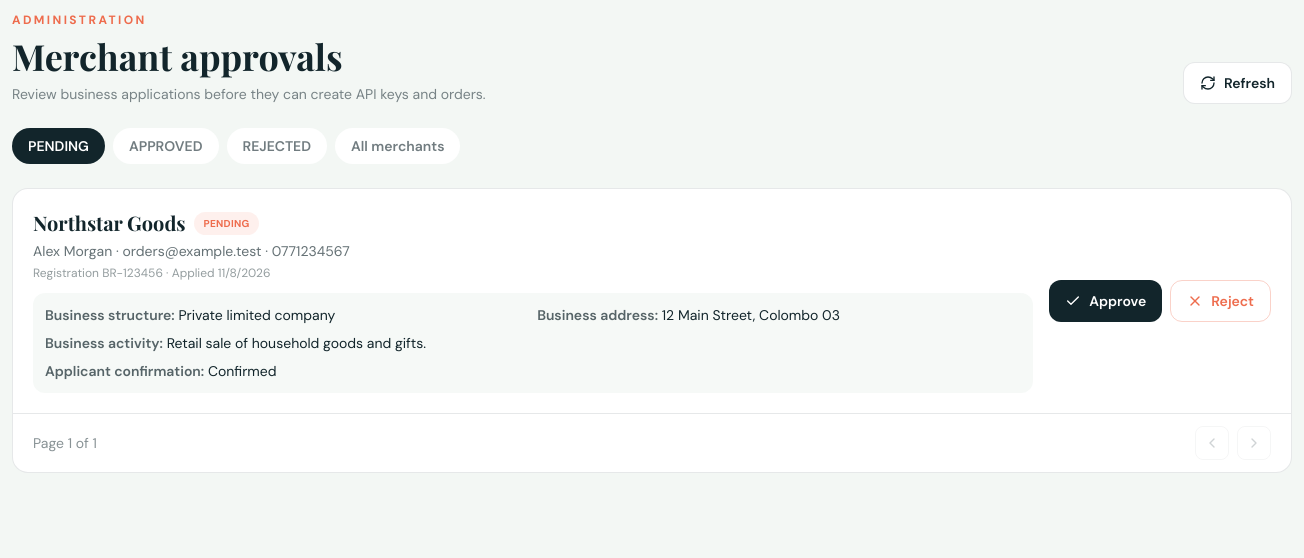
MerchantApprovalsPage › approves a merchant and displays the successful status notice
This screenshot has width=1304, height=558.
Expected: the heading "Northstar Goods" is shown, x1=33 y1=209 x2=186 y2=237
Click the button "All merchants".
click(398, 146)  # box x1=335 y1=128 x2=460 y2=164
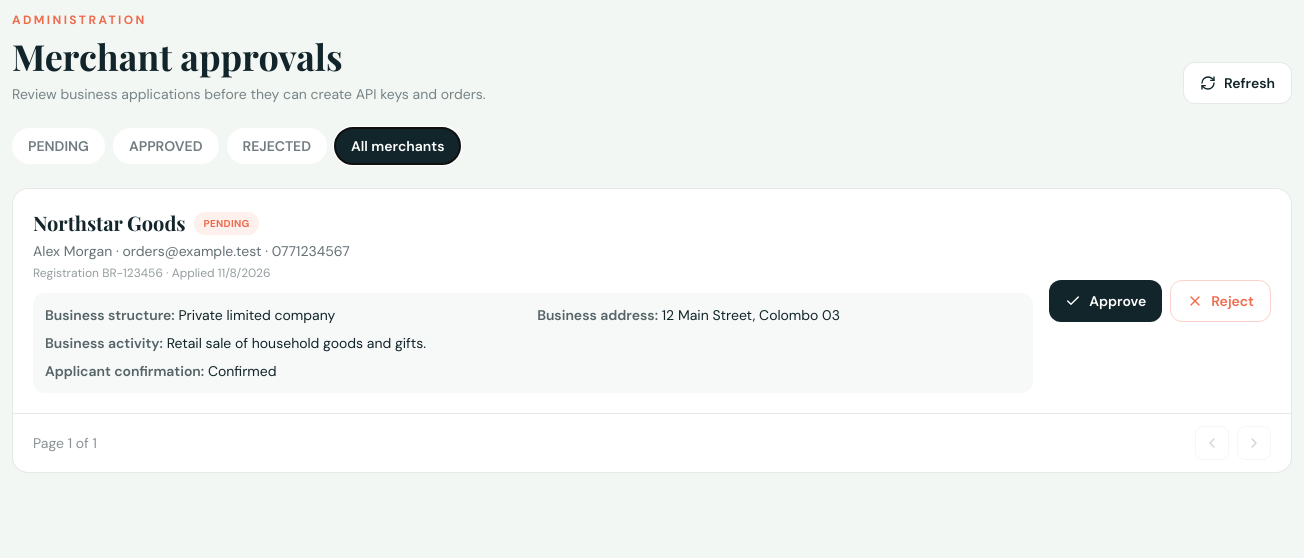
Click the button "Approve".
click(1106, 301)  # box x1=1049 y1=280 x2=1162 y2=322
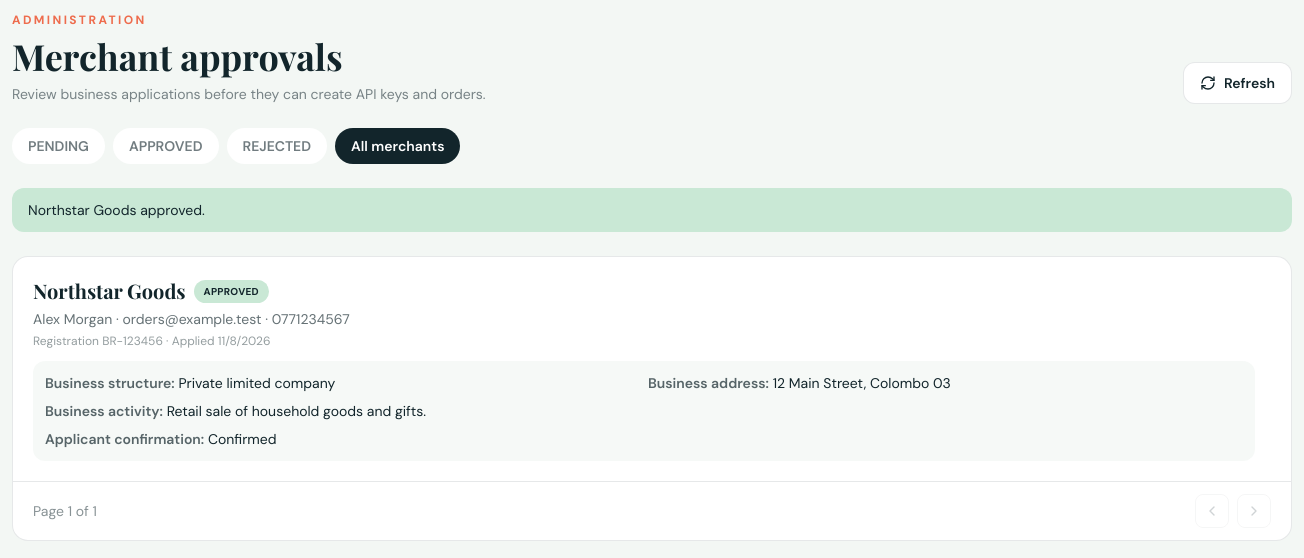
Result: the message reads "Northstar Goods approved." at x1=28 y1=201 x2=205 y2=219
Result: the text "APPROVED" is shown at x1=194 y1=280 x2=269 y2=302
